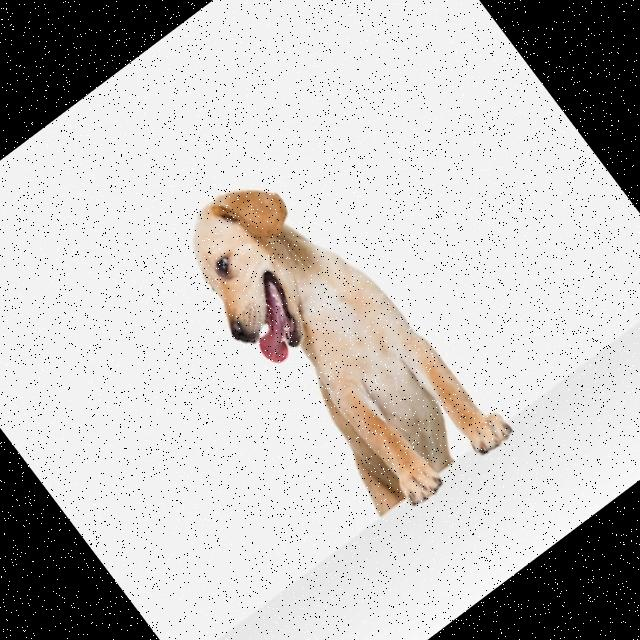Dog: (162, 138, 517, 532)
